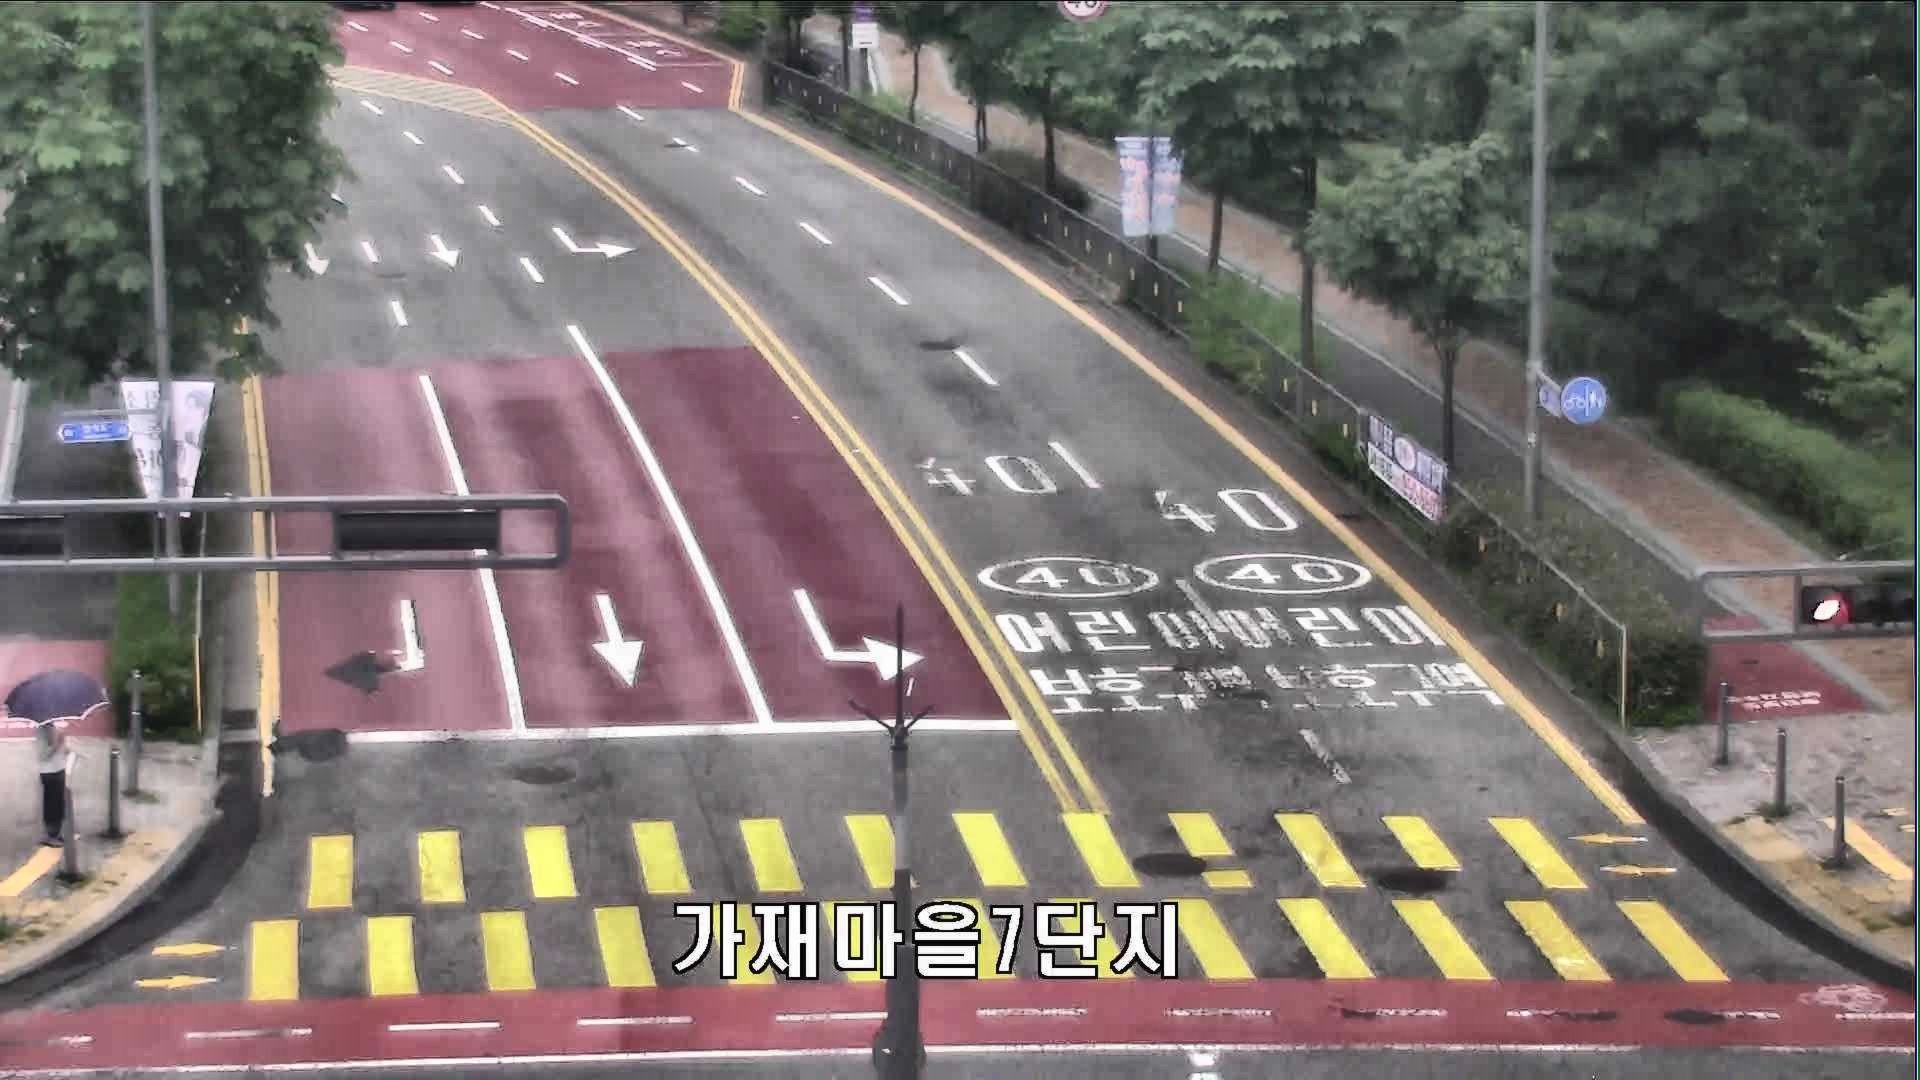um_sidewalk: (3, 673, 115, 847)
